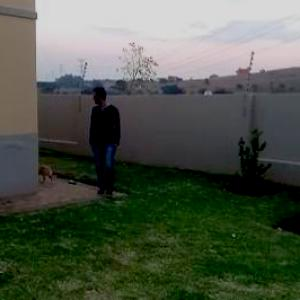follow: (86, 82, 125, 203)
